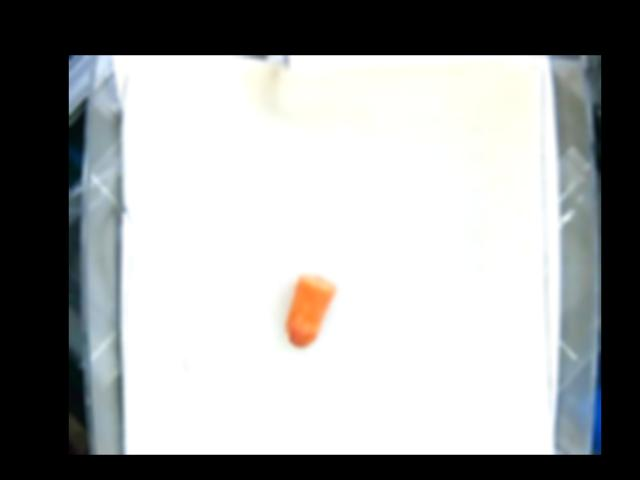Carrot: (286, 273, 336, 348)
